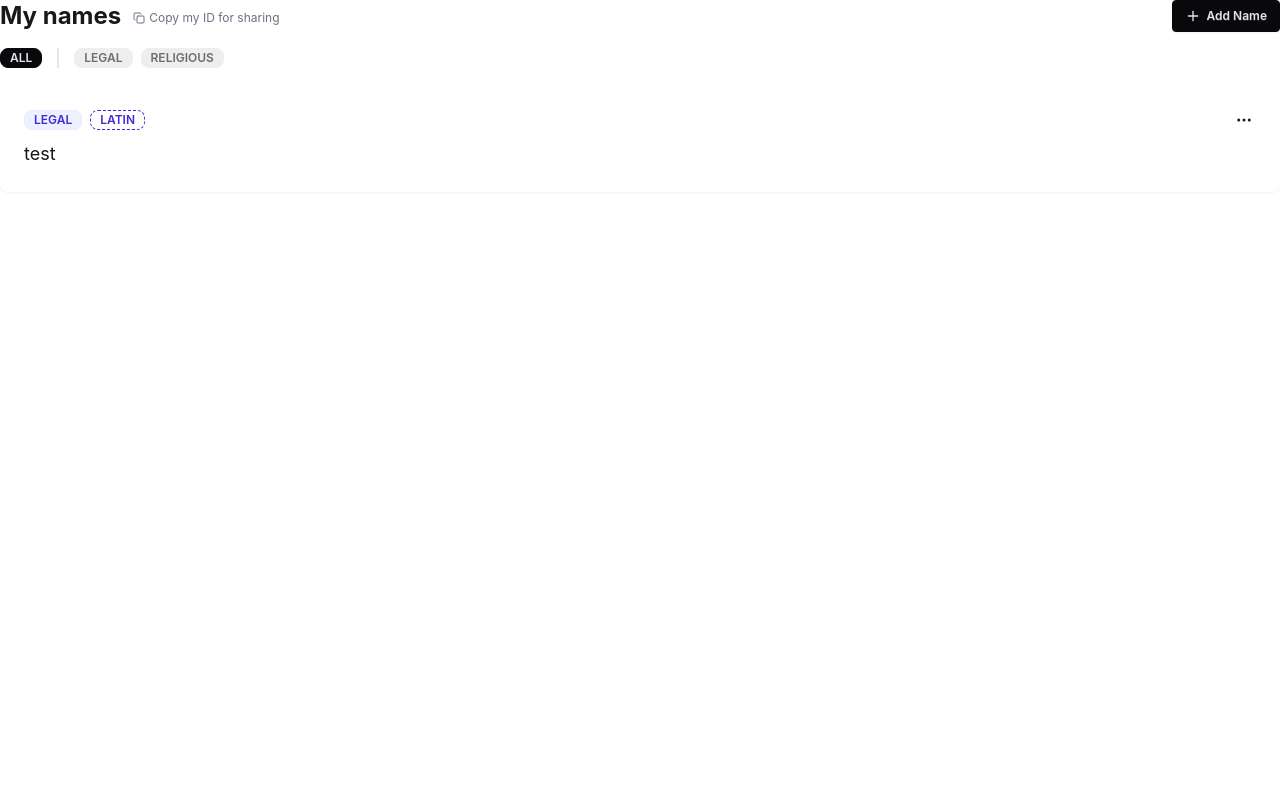
Test case: MyNames › opens the add name modal
The width and height of the screenshot is (1280, 800).
What coordinates should you click on to do the following:
click the button "Add Name"
I would click on:
 (1226, 16)
Its box is x1=1172 y1=0 x2=1279 y2=32.
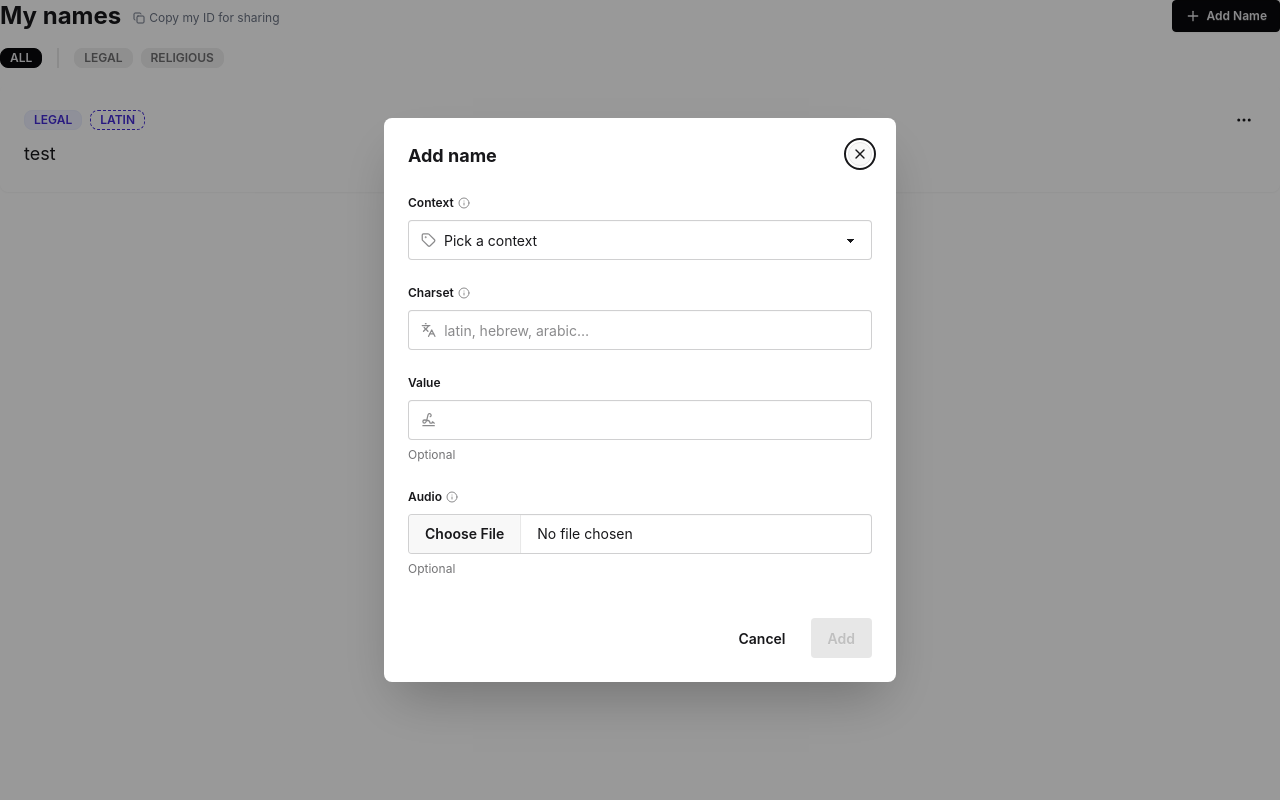
Check: the heading "Add name" is shown, box x1=408 y1=142 x2=497 y2=170
